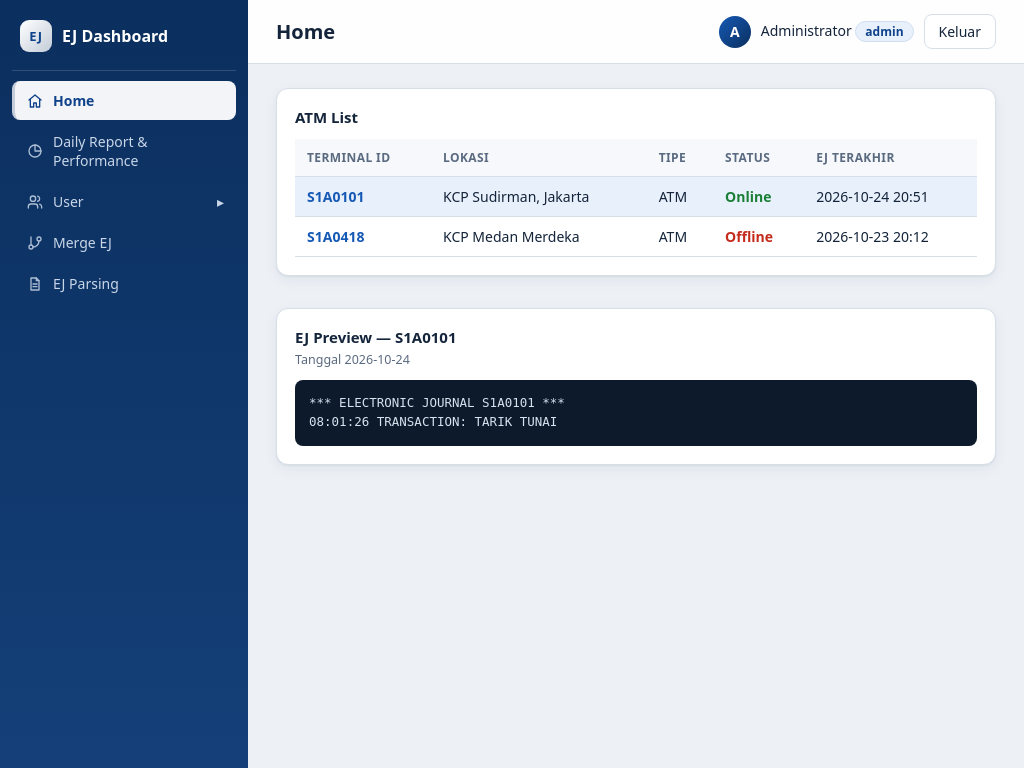
EJ menus read from the API › [REQ-HOME-002] explains when a machine has no EJ yet
Click the button "S1A0418" at (336, 236), box [307,227,364,246]
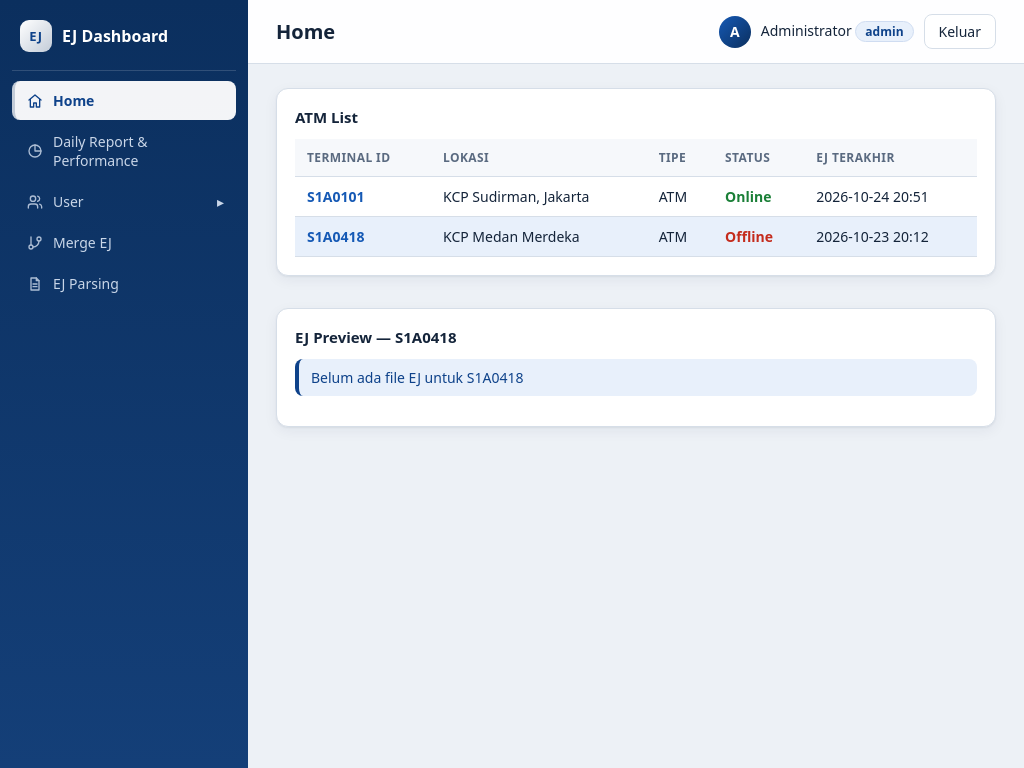
Check: the text "Belum ada file EJ untuk S1A0418" is shown, box [295,359,977,396]
